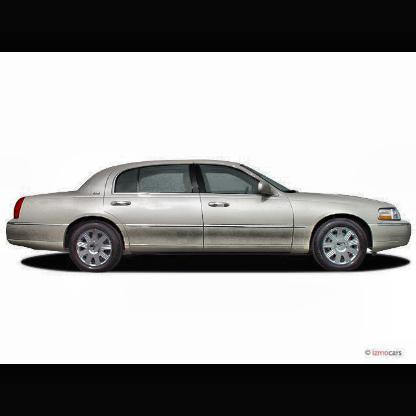Lincoln Town Car Sedan 2011: (5, 160, 413, 275)
